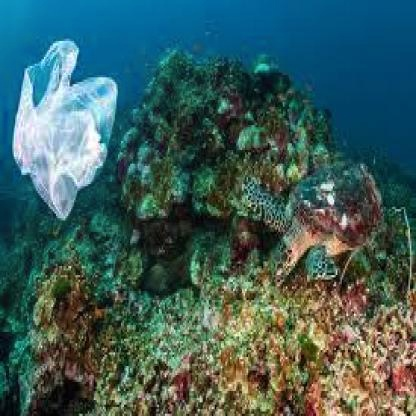pbag: (12, 38, 120, 222)
